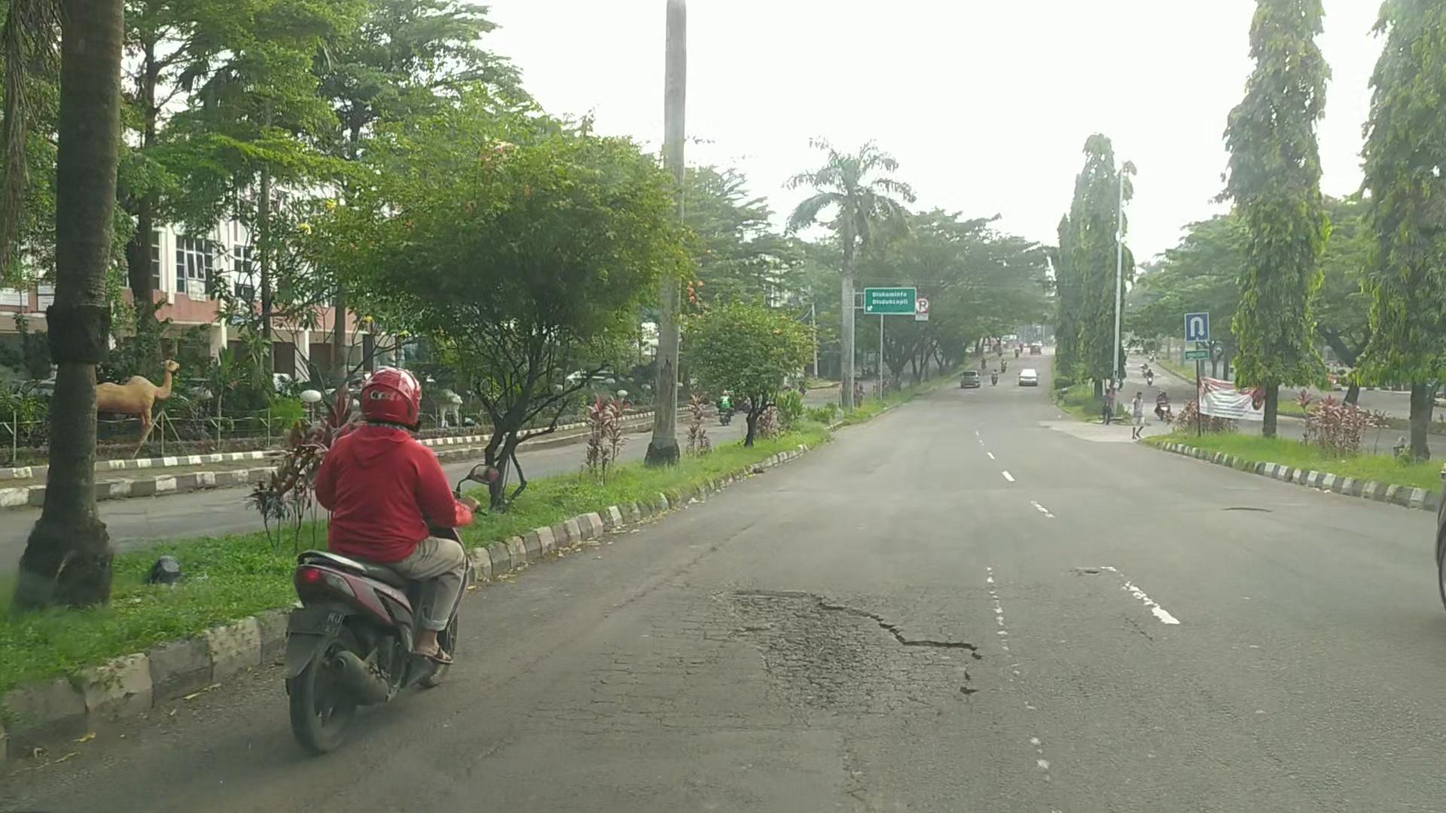pothole: (730, 587, 979, 722)
